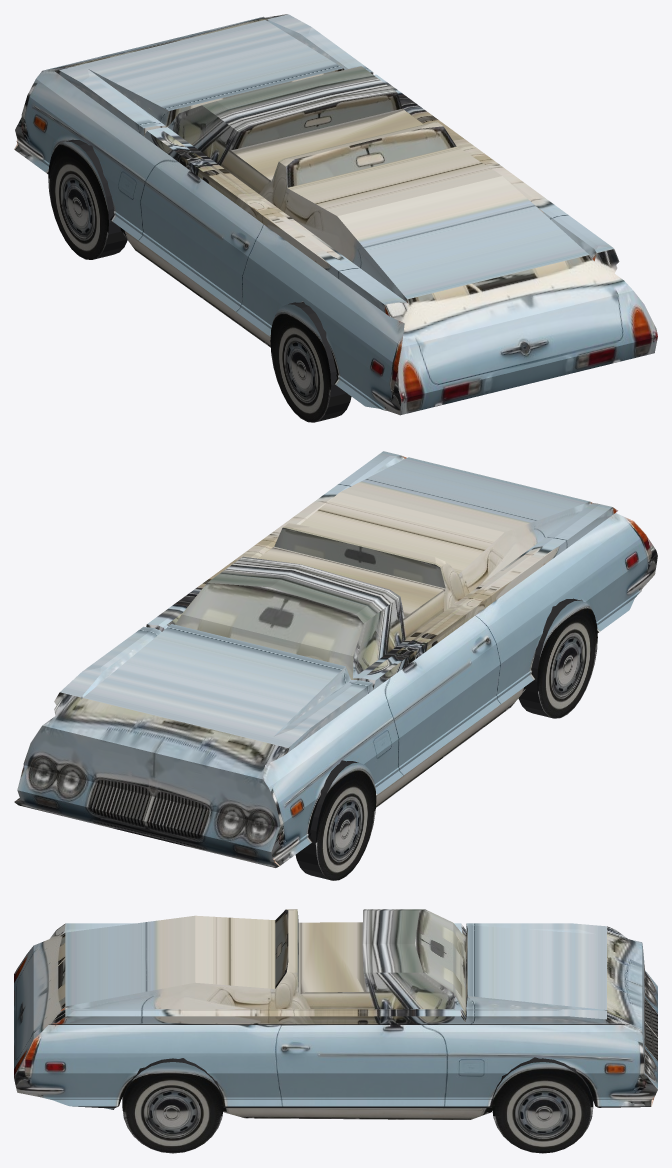
File: convertible.glb
3 renders of one model, top to bottom at view 1: azimuth 30°, elevation 25°; view 2: azimuth 150°, elevation 25°; view 3: azimuth 270°, elevation 25°, orthographic. The views are drawn at different scales.
Visible parts, largest first — view 1: convertible, wheel_BL, wheel_FL; view 2: convertible, wheel_FL, wheel_BL; view 3: convertible, wheel_FR, wheel_BR.
Part boxes in pixels (x1=…): convertible: x1=14, y1=14, x2=657, y2=415; wheel_BL: x1=270, y1=302, x2=351, y2=422; wheel_FL: x1=48, y1=139, x2=127, y2=259; convertible: x1=14, y1=451, x2=657, y2=867; wheel_FL: x1=295, y1=760, x2=376, y2=880; wheel_BL: x1=518, y1=598, x2=597, y2=718; convertible: x1=14, y1=909, x2=657, y2=1119; wheel_FR: x1=492, y1=1057, x2=593, y2=1153; wheel_BR: x1=122, y1=1058, x2=223, y2=1153.
Bounding box in the file's own units: 1.83 × 1.29 × 4.6.
3 materials, 1 textured.
